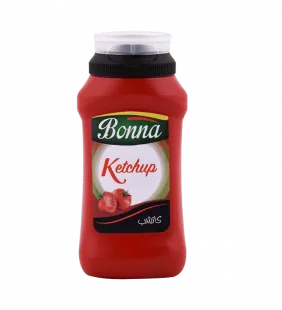BONNA: (68, 20, 196, 284)
